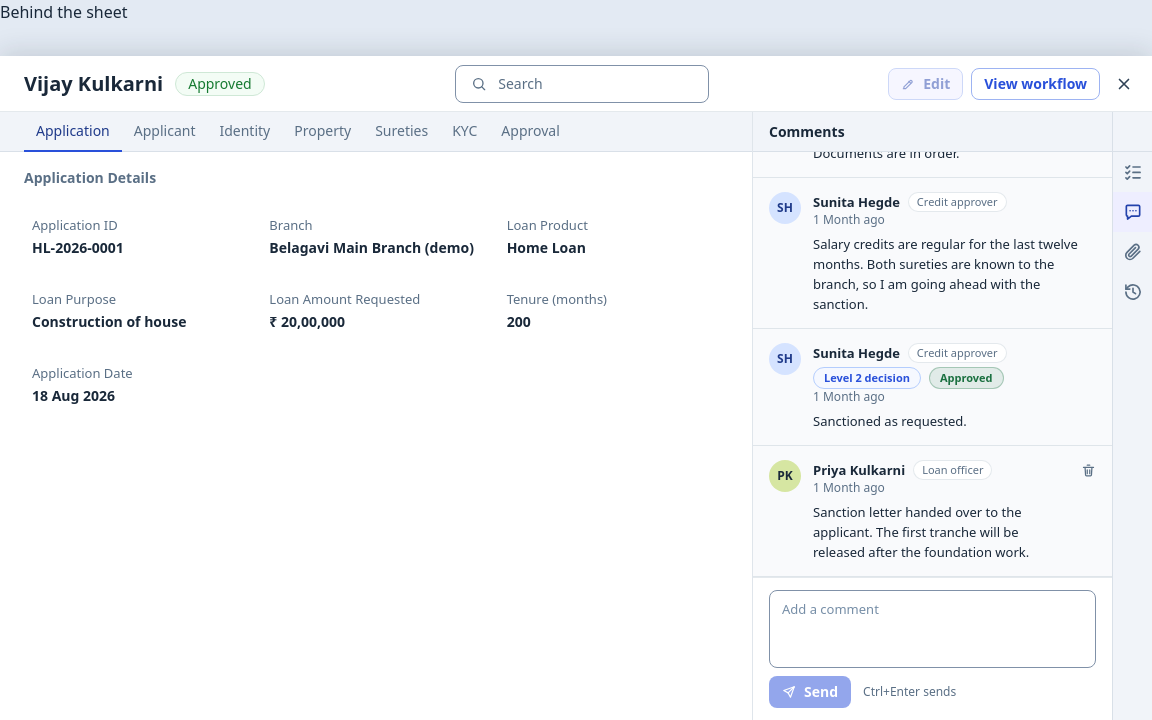
Test case: the tabs › Identity shows the heading "Identity and Consent"
The width and height of the screenshot is (1152, 720).
(page scrolled)
Click the tab "Identity". click: click(245, 132)
box: left=207, top=112, right=282, bottom=152
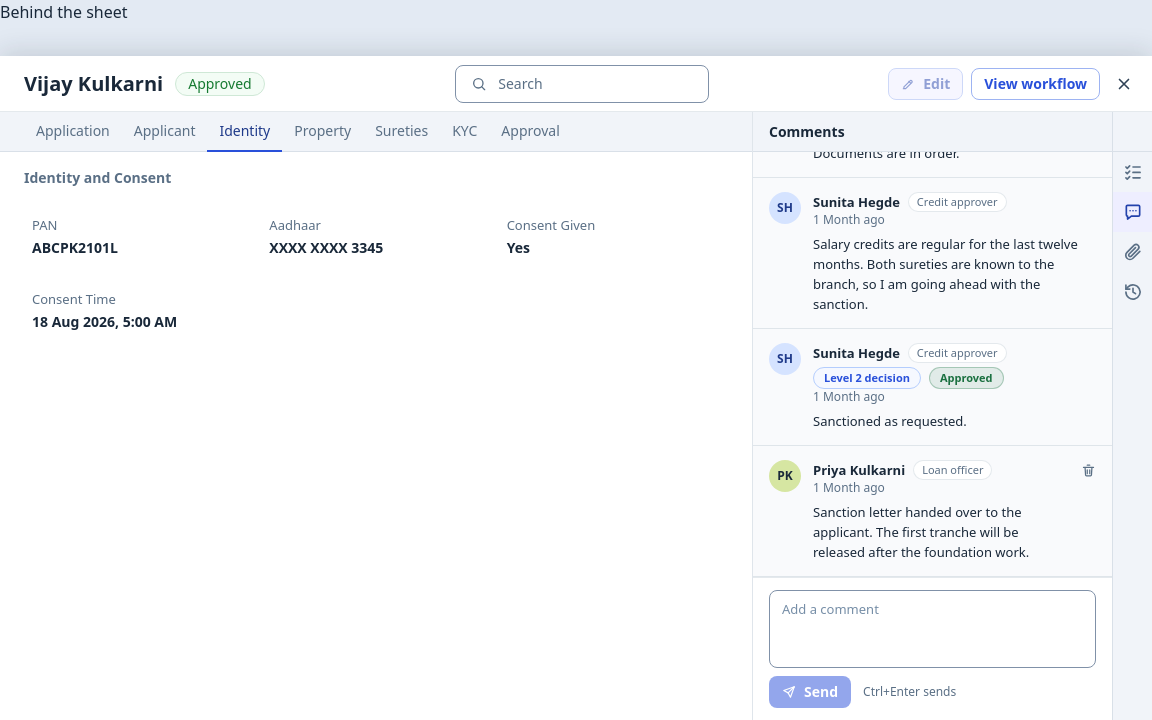
Expected: the heading "Identity and Consent" is shown, left=24, top=168, right=171, bottom=187
